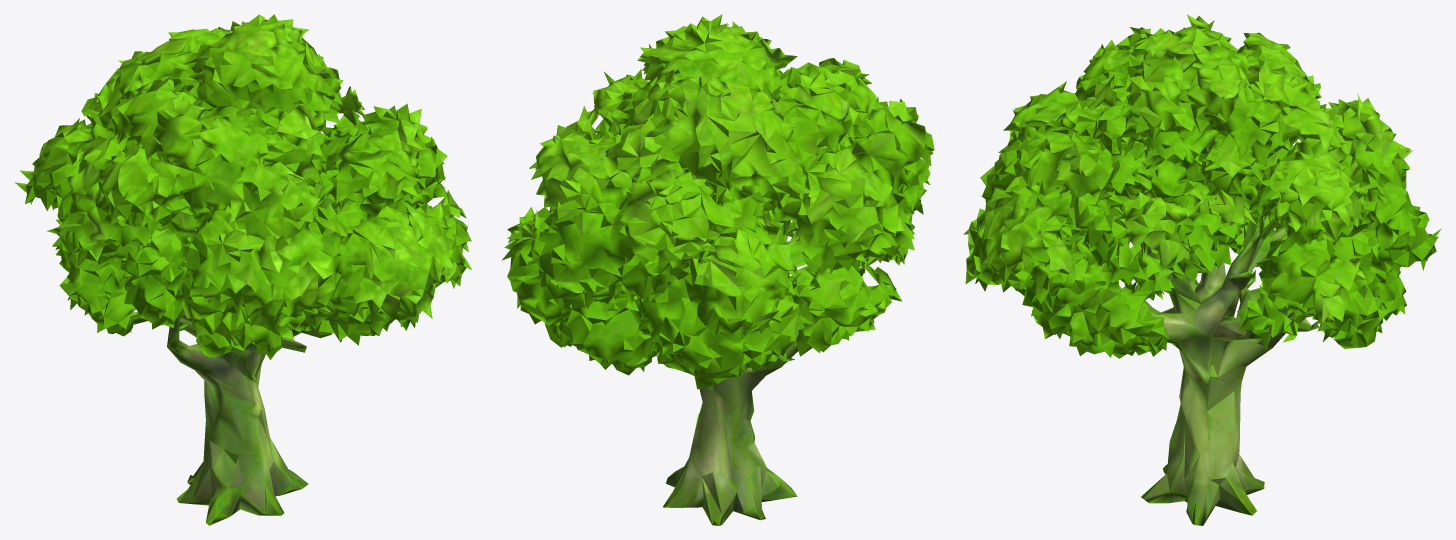
File: tree.glb
3 renders of one model, left to right at view 1: azimuth 30°, elevation 25°; view 2: azimuth 150°, elevation 25°; view 3: azimuth 270°, elevation 25°, orthographic.
Parts seen in each view (by area): view 1: crown; view 2: crown; view 3: crown.
Part boxes in pixels (x1,y1,x2,y2): crown: (15,14,471,525); crown: (502,14,934,525); crown: (963,14,1441,525).
Bounding box in the file's own units: 1.37 × 1.7 × 1.57.
Materials: 1 (1 with a texture image).
